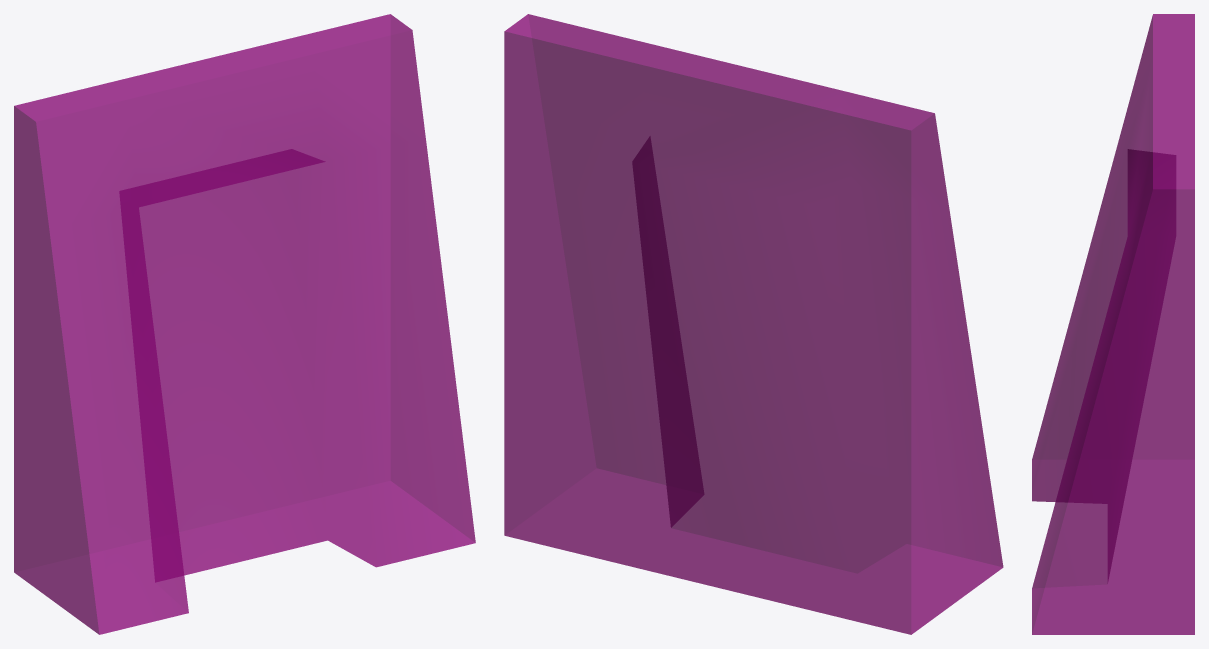
Rendered from SM_Bld_Wall_Temple_Top_03_Collision.fbx.
3 views of the same model, side by side, from view 1: azimuth 30°, elevation 25°; view 2: azimuth 150°, elevation 25°; view 3: azimuth 270°, elevation 25° (orthographic). The views are drawn at different scales.
Parts seen in each view (by area): view 1: SM_Bld_Wall_Temple_Top_03_Collision; view 2: SM_Bld_Wall_Temple_Top_03_Collision; view 3: SM_Bld_Wall_Temple_Top_03_Collision.
Boxes of the visible parts, x1=… form: SM_Bld_Wall_Temple_Top_03_Collision: x1=14, y1=14, x2=475, y2=634; SM_Bld_Wall_Temple_Top_03_Collision: x1=504, y1=14, x2=1003, y2=634; SM_Bld_Wall_Temple_Top_03_Collision: x1=1032, y1=14, x2=1194, y2=634.
Bounding box in the file's own units: 509 × 603 × 200.
